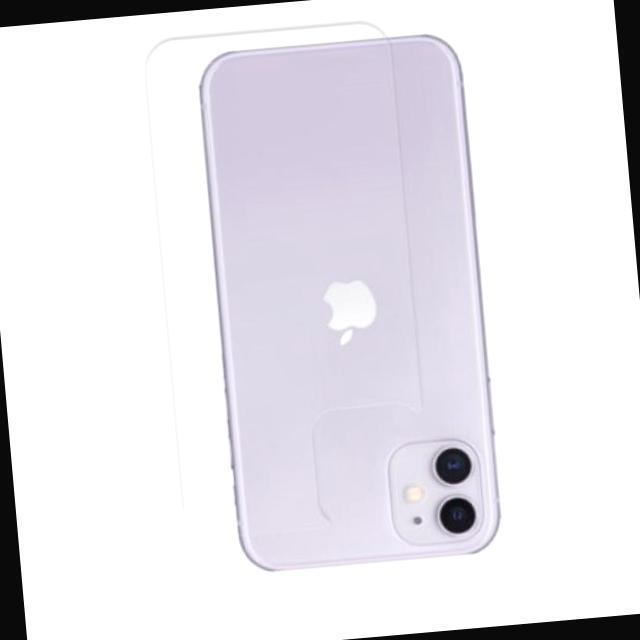lens: (392, 444, 480, 536)
phone: (190, 25, 511, 582)
